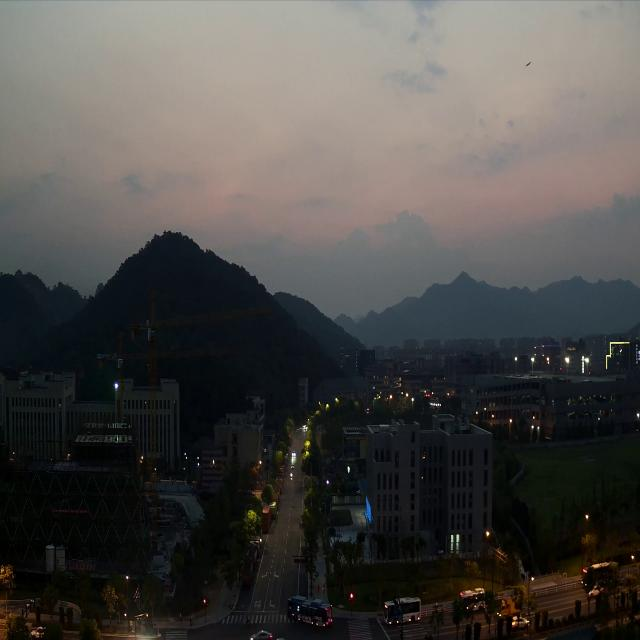UAV: (525, 61, 531, 66)
